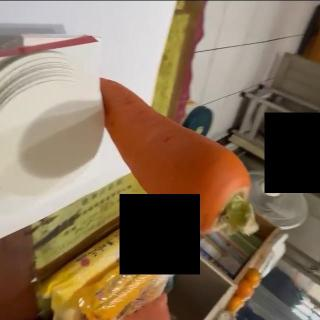carrot: (99, 78, 258, 236)
